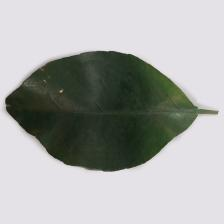healthy: (7, 60, 202, 184)
